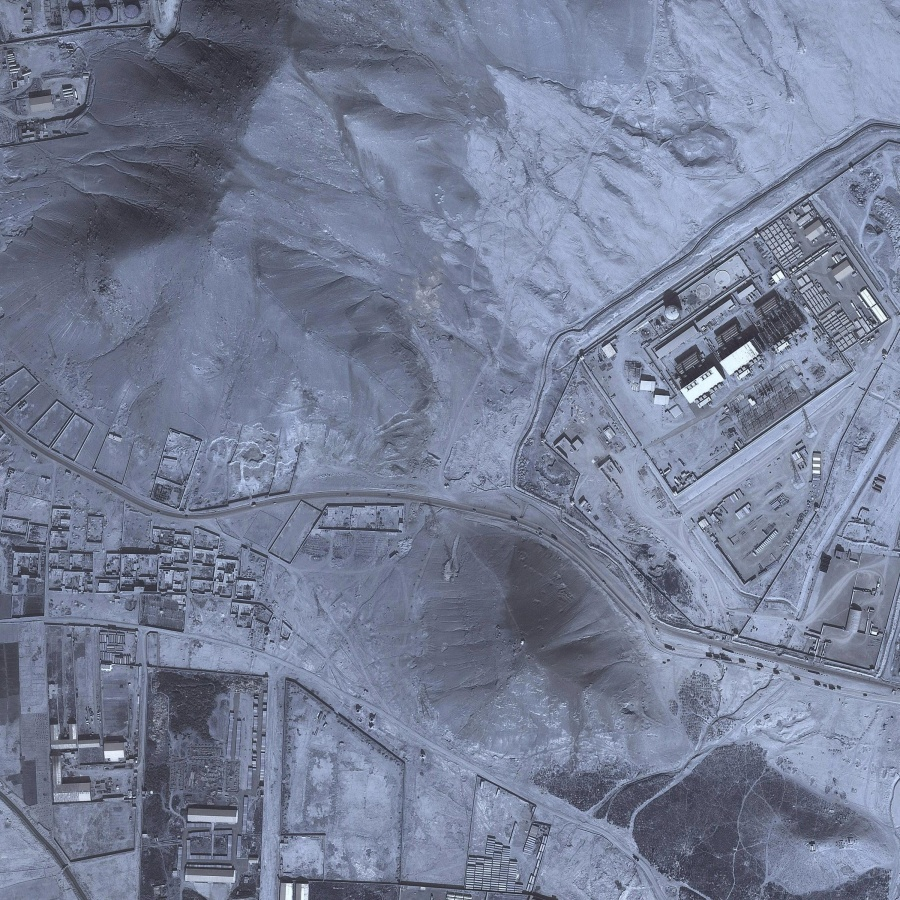PowerPlant: (638, 223, 887, 407)
